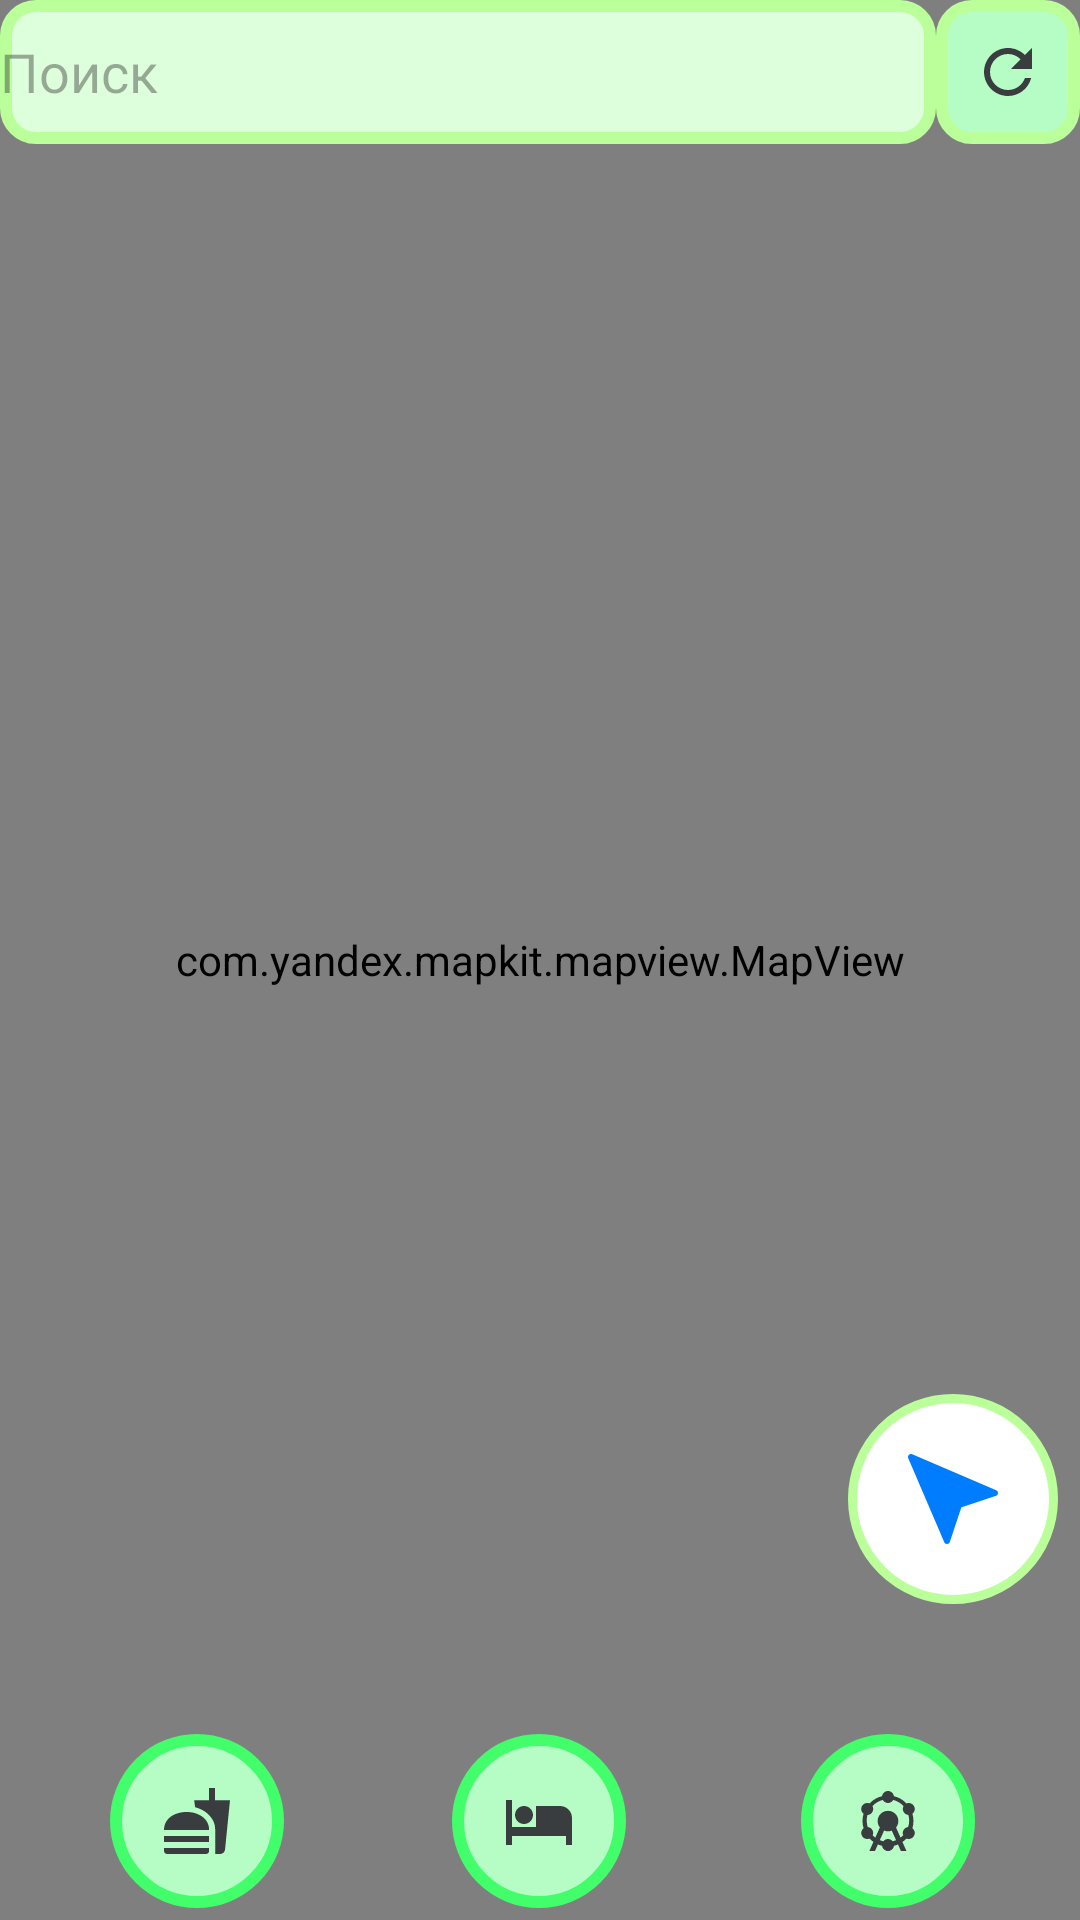

Icon click points for this 1080*1920 phone screenshot, format [x,y]:
attractions: [888,1821]
check location: [953,1499]
fastfood: [197,1821]
hotel: [539,1821]
refresh: [1008,72]
